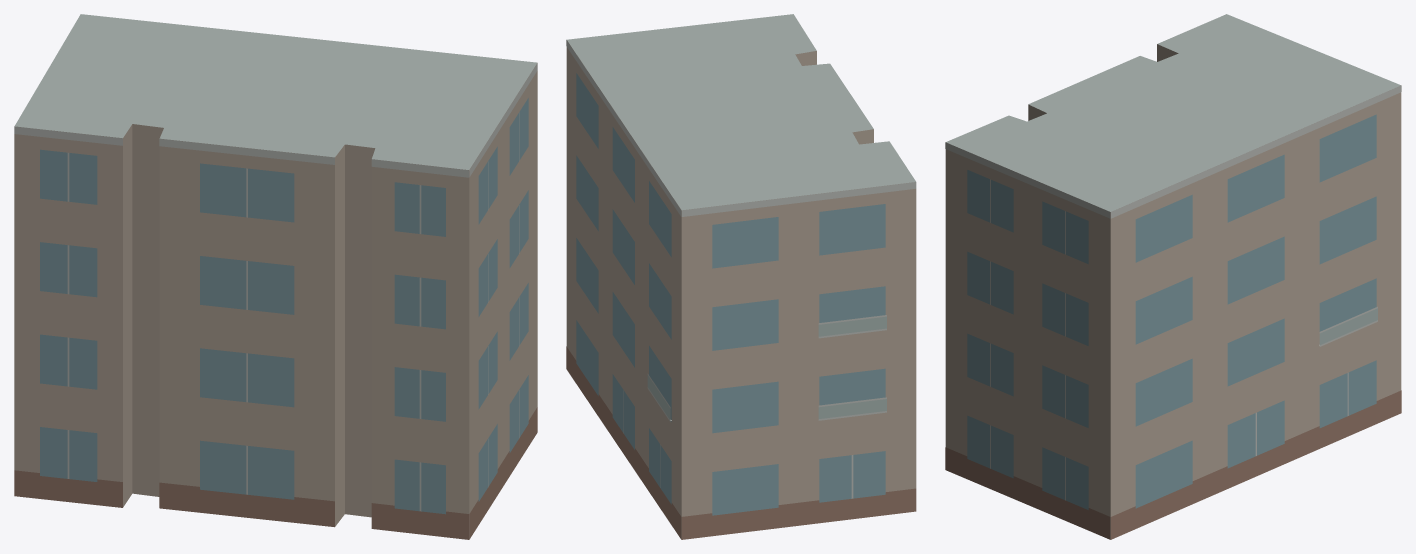
File: survey-upis-33012277.glb
3 views of the same model, side by side, from view 1: azimuth 30°, elevation 25°; view 2: azimuth 150°, elevation 25°; view 3: azimuth 270°, elevation 25° (orthographic). The views are drawn at different scales.
Parts seen in each view (by area): view 1: survey-upis-33012277.tmp; view 2: survey-upis-33012277.tmp; view 3: survey-upis-33012277.tmp.
Boxes of the visible parts, <box> form: survey-upis-33012277.tmp: <box>14,14,537,539</box>; survey-upis-33012277.tmp: <box>566,14,916,539</box>; survey-upis-33012277.tmp: <box>945,14,1401,539</box>.
Size of the model in its own units: 15.3 by 11.8 by 14.88.
